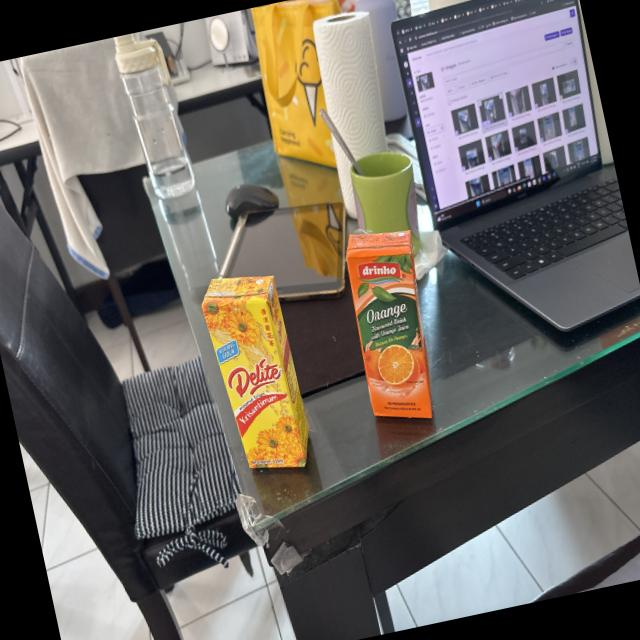drink_carton: (192, 257, 326, 489), (331, 215, 454, 438)
